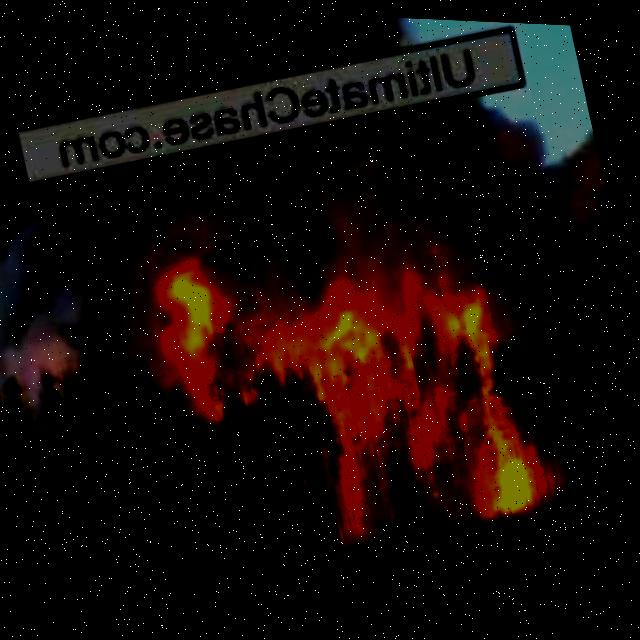Fire: (287, 255, 564, 560), (142, 244, 242, 420)
Smoke: (0, 34, 625, 404), (0, 0, 430, 162)
